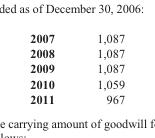table: (29, 29, 124, 106)
table column: (75, 29, 124, 106), (29, 29, 75, 106)
table row: (29, 29, 124, 45), (29, 75, 124, 91), (29, 45, 124, 60), (29, 60, 124, 75), (29, 91, 124, 106)
